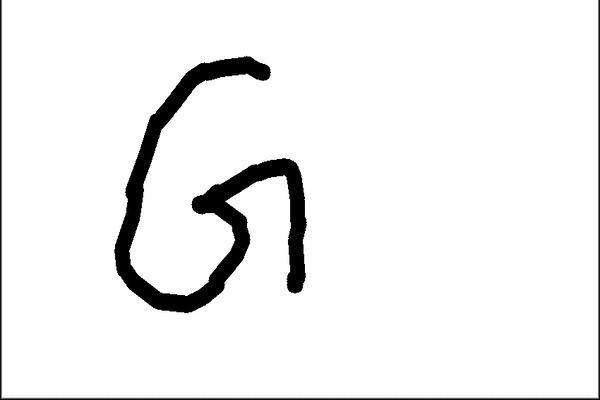G: (105, 51, 313, 314)
